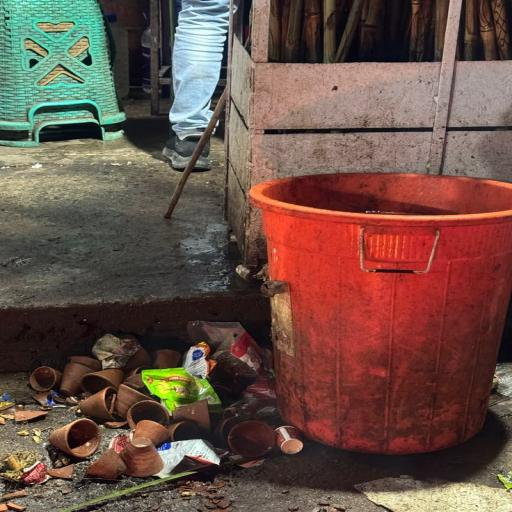traffic_light: (251, 174, 511, 453)
